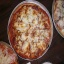pizza: (6, 3, 53, 60)
